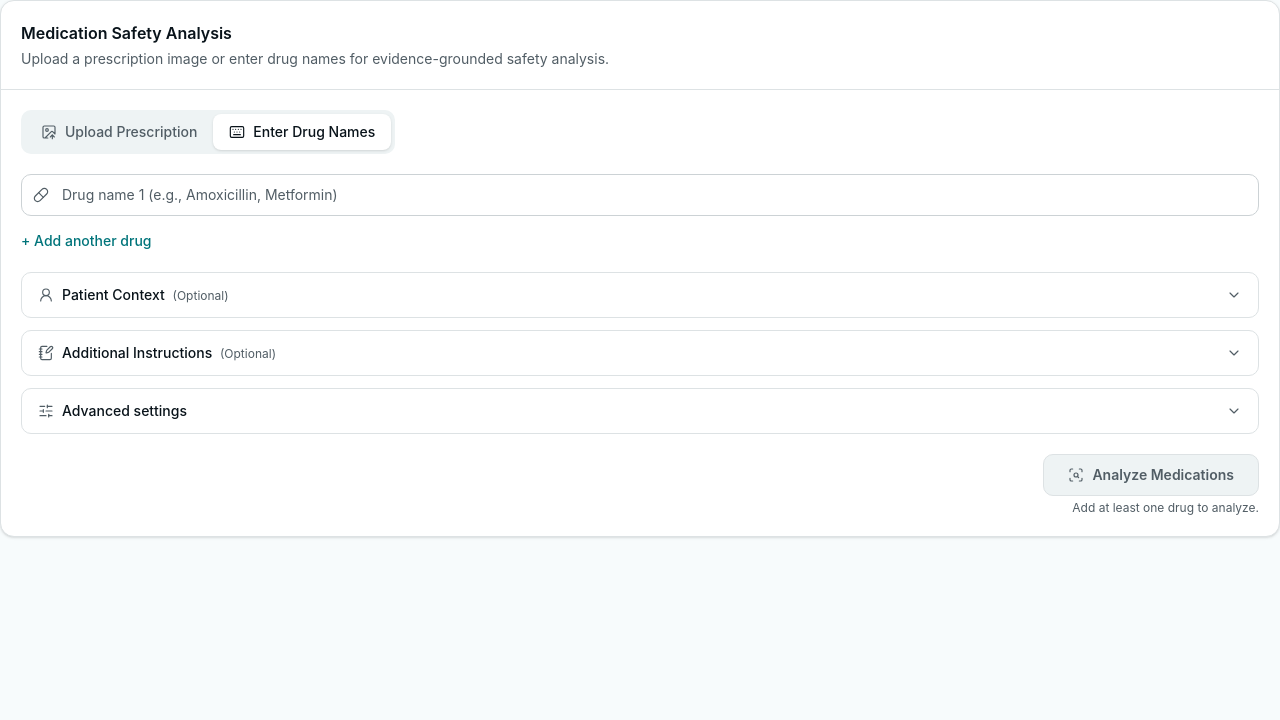
it: WorkspacePage Model Selector & Catalog Error Handling › TEST 1: Displays warning when model catalog fetch fails
What coordinates should you click on to do the following:
click the button "Advanced settings"
I would click on:
 (124, 410)
Its box is [22,389,1258,433].
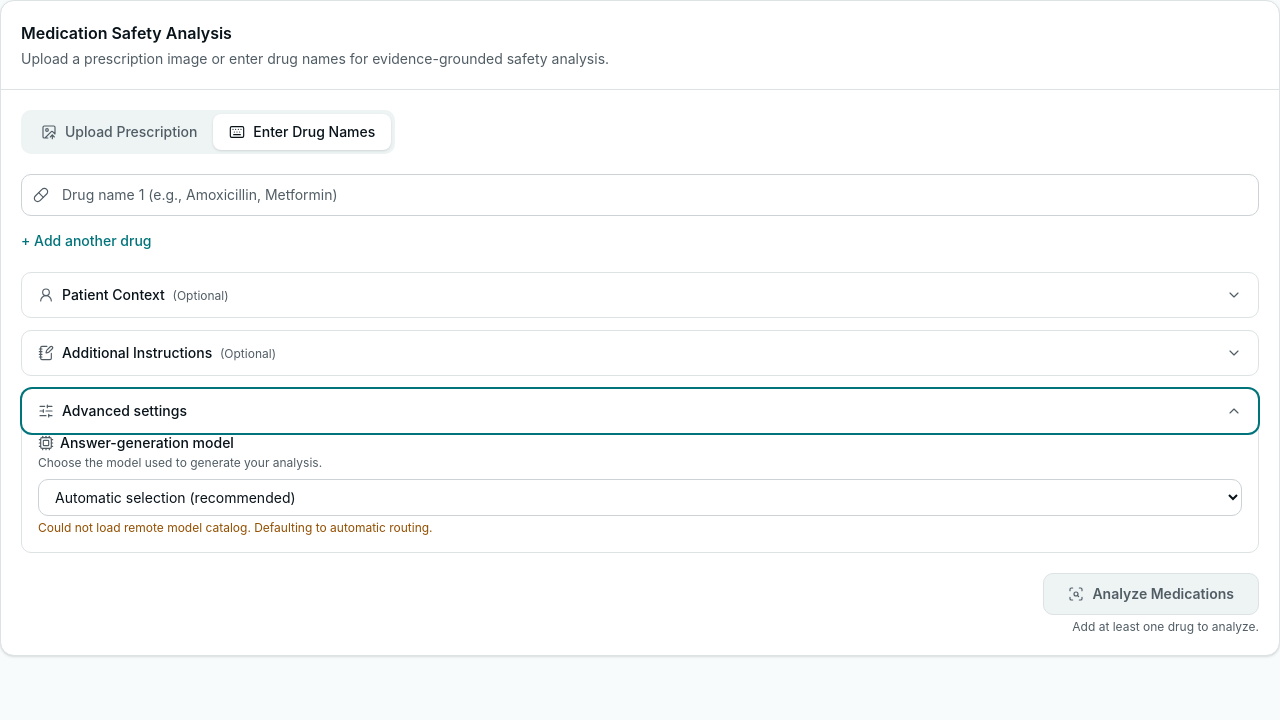
Check: the text "Could not load remote model catalog. Defaulting to automatic routing." is shown, box [38,520,433,535]
Check: the dropdown labelled "Answer-generation model" is enabled, box [38,479,1242,516]
